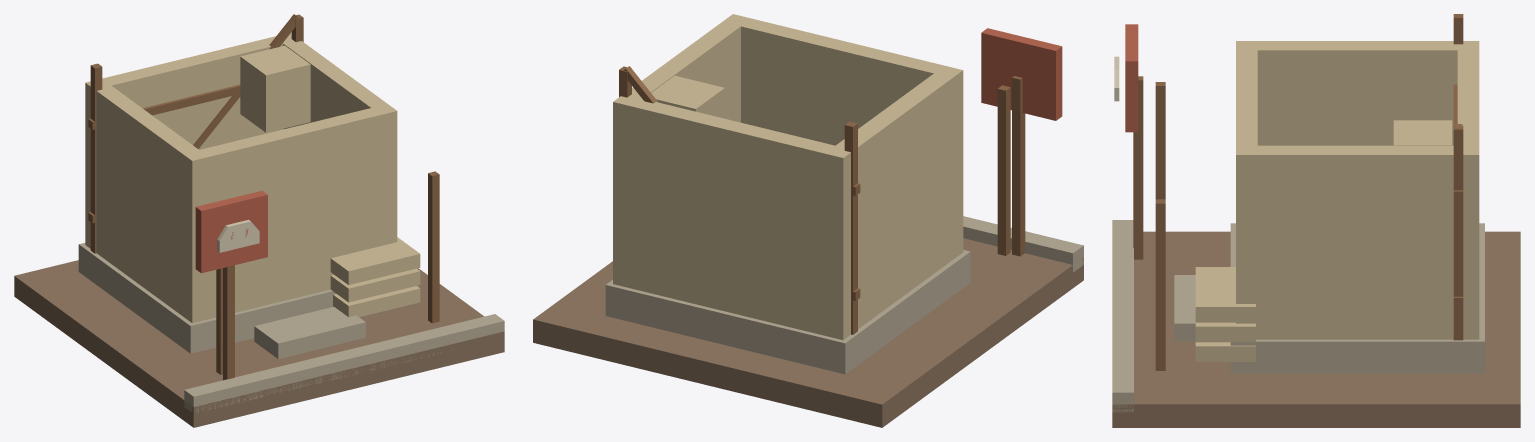
File: bakery-half-built.glb
3 views of the same model, side by side, from view 1: azimuth 30°, elevation 25°; view 2: azimuth 150°, elevation 25°; view 3: azimuth 270°, elevation 25° (orthographic). The views are drawn at different scales.
Visible parts, largest first — view 1: bakery; view 2: bakery; view 3: bakery.
Part boxes in pixels (<box>): bakery: <box>14,14,504,427</box>; bakery: <box>533,14,1083,427</box>; bakery: <box>1112,14,1520,427</box>.
Bounding box in the file's own units: 1.88 × 1.38 × 1.88.
